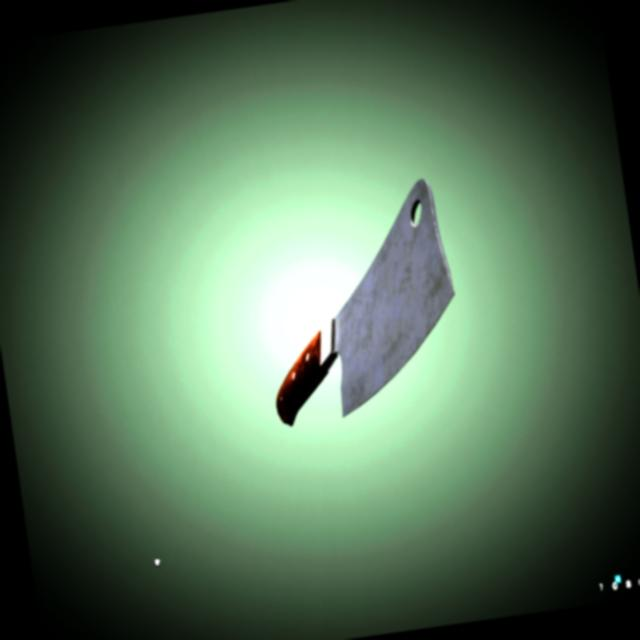cleaver: (243, 179, 470, 458)
